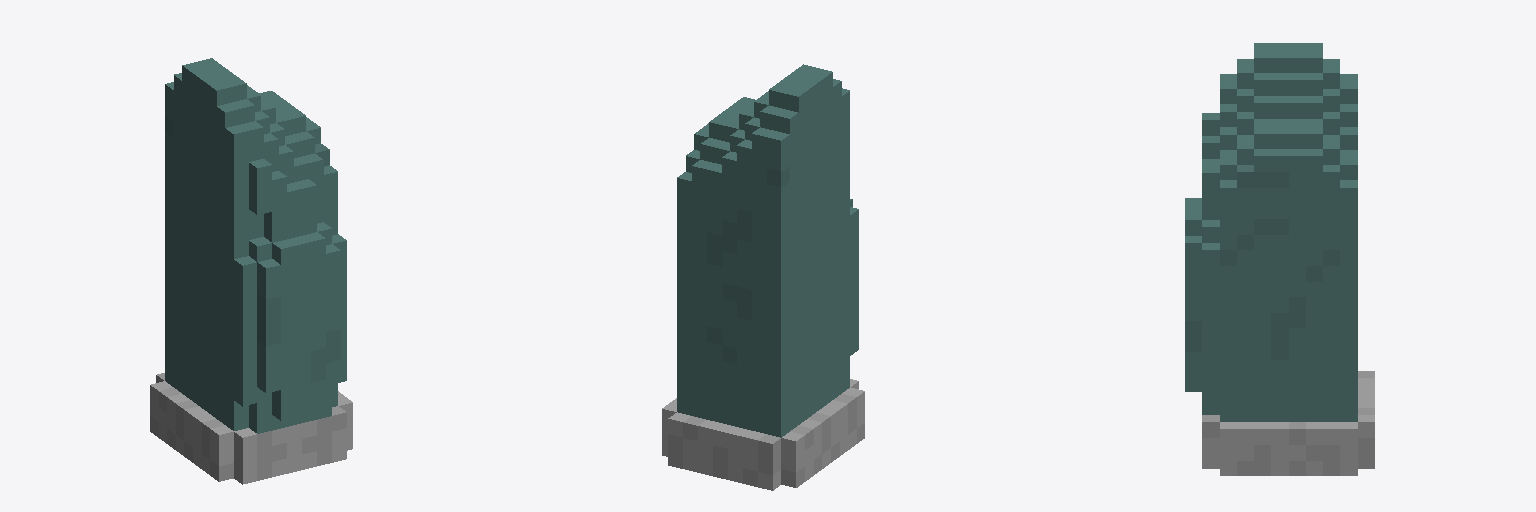
3 renders of one model, left to right at view 1: azimuth 30°, elevation 25°; view 2: azimuth 150°, elevation 25°; view 3: azimuth 270°, elevation 25°, orthographic.
Visible parts, largest first — view 1: object 1; view 2: object 1; view 3: object 1.
Boxes of the visible parts, x1,y1,x2,y2 form: object 1: [150, 58, 352, 484]; object 1: [662, 64, 864, 490]; object 1: [1185, 43, 1374, 475].
Bounding box in the file's own units: 0.9 × 2.4 × 1.1.
1 materials, 1 textured.